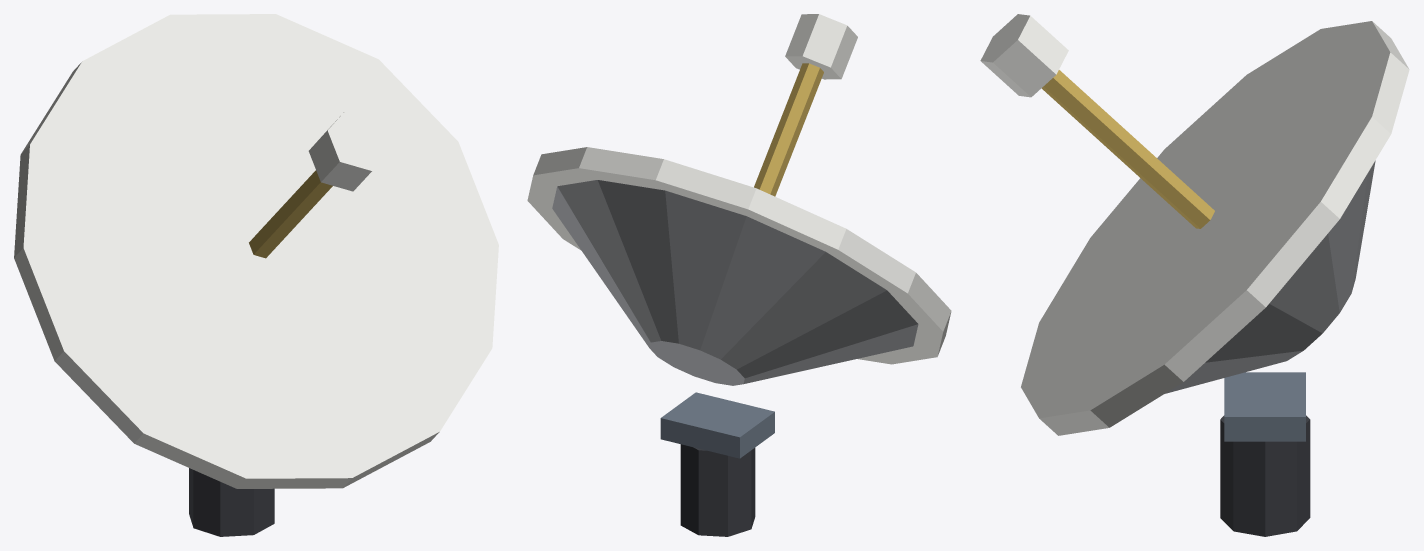
File: Com_Dish_L.fbx
3 renders of one model, left to right at view 1: azimuth 30°, elevation 25°; view 2: azimuth 150°, elevation 25°; view 3: azimuth 270°, elevation 25°, orthographic. The views are drawn at different scales.
Parts seen in each view (by area): view 1: Com_Dish_L; view 2: Com_Dish_L; view 3: Com_Dish_L.
Boxes of the visible parts, bbox=[...] form: Com_Dish_L: bbox=[14, 14, 498, 536]; Com_Dish_L: bbox=[527, 14, 951, 536]; Com_Dish_L: bbox=[980, 14, 1409, 536].
Size of the model in its own units: 1.87 by 2.04 by 1.58.
Materials: 1 (1 with a texture image).
